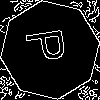P: (25, 25, 76, 65)
